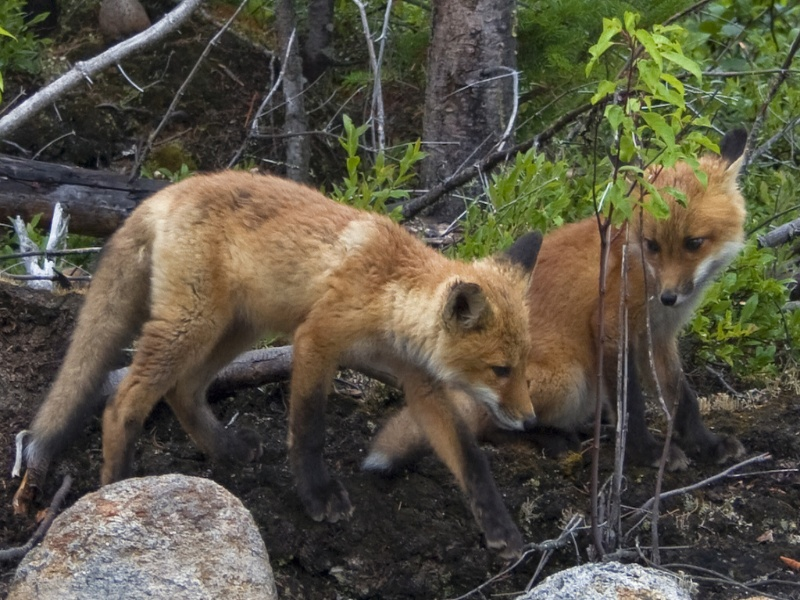fox: (17, 165, 546, 569), (361, 106, 759, 482)
